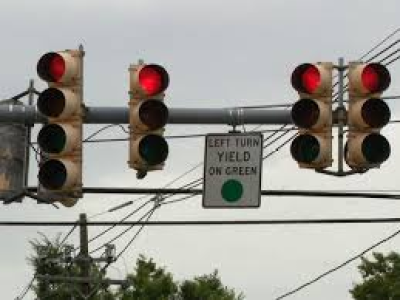trafficlight_red: (34, 51, 79, 192), (350, 60, 392, 167), (290, 61, 331, 168), (132, 63, 171, 165)
